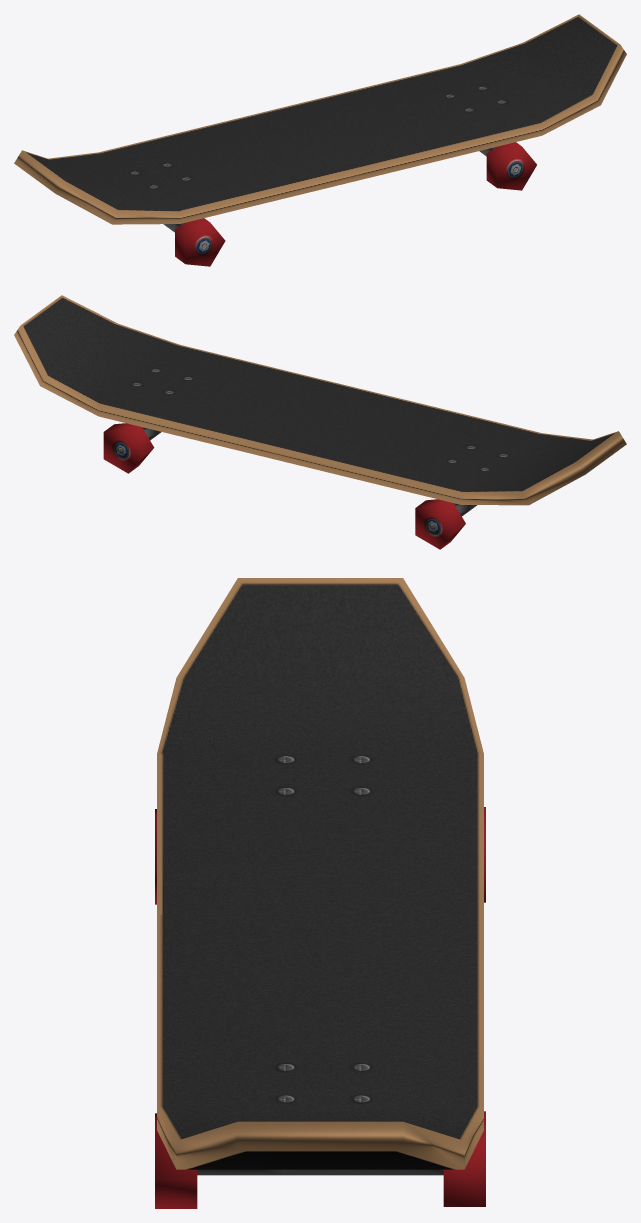
Rendered from skate.fbx.
The picture shows the model from 3 angles, top to bottom: view 1: azimuth 30°, elevation 25°; view 2: azimuth 150°, elevation 25°; view 3: azimuth 270°, elevation 25°; orthographic projection. The views are drawn at different scales.
Visible parts, largest first — view 1: skate; view 2: skate; view 3: skate.
Part boxes in pixels (<box>): skate: <box>14,14,626,266</box>; skate: <box>14,295,626,549</box>; skate: <box>155,578,485,1208</box>.
Bounding box in the file's own units: 4.04 × 0.6874 × 1.01.
Materials: 1 (1 with a texture image).
